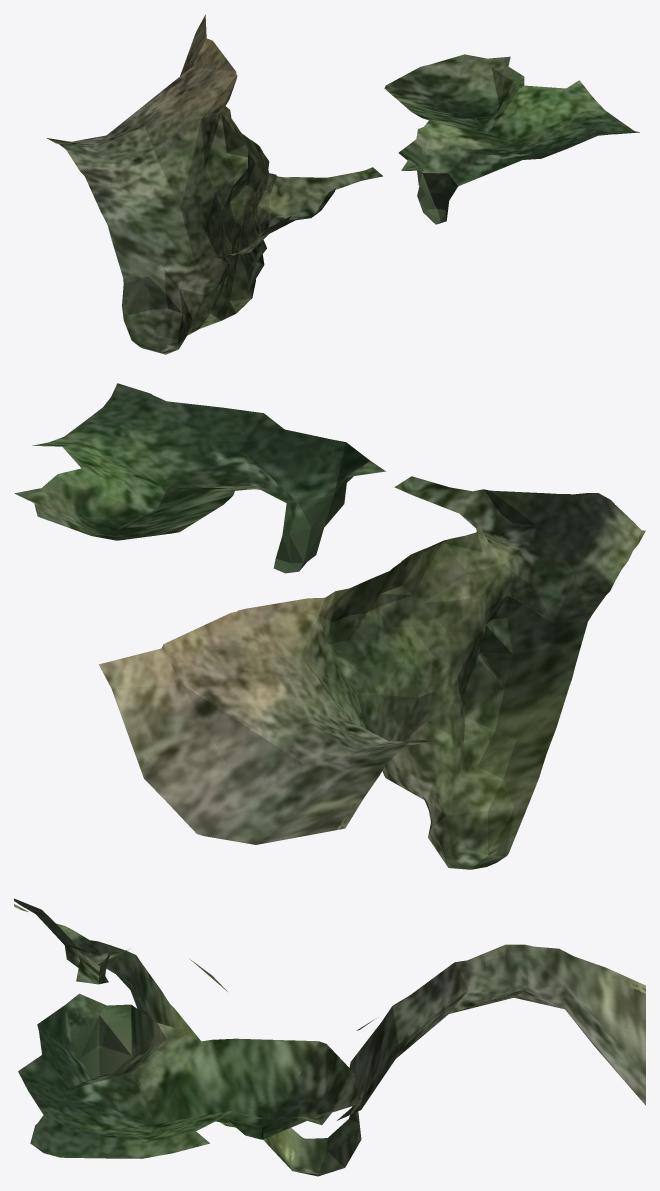
3 renders of one model, top to bottom at view 1: azimuth 30°, elevation 25°; view 2: azimuth 150°, elevation 25°; view 3: azimuth 270°, elevation 25°, orthographic. The views are drawn at different scales.
Size of the model in its own units: 5.9 by 2.88 by 5.9.
2 materials, 2 textured.
